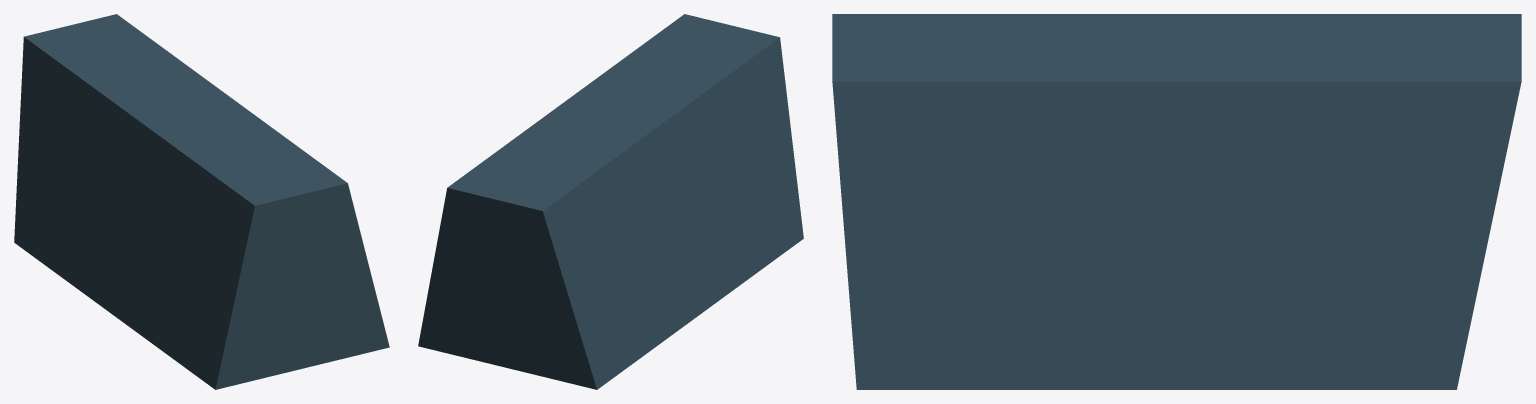
Rendered from TOIT2.fbx.
3 renders of one model, left to right at view 1: azimuth 30°, elevation 25°; view 2: azimuth 150°, elevation 25°; view 3: azimuth 270°, elevation 25°, orthographic. The views are drawn at different scales.
Visible parts, largest first — view 1: TOIT2; view 2: TOIT2; view 3: TOIT2.
Boxes of the visible parts, box(x1,y1,x2,y2) form: TOIT2: box(14, 14, 389, 389); TOIT2: box(418, 14, 803, 389); TOIT2: box(832, 14, 1521, 389).
Bounding box in the file's own units: 250 × 250 × 574.
